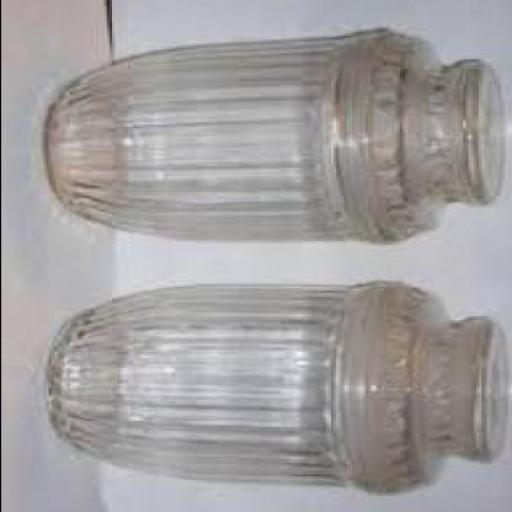glass: (45, 282, 501, 496), (47, 33, 504, 245)
